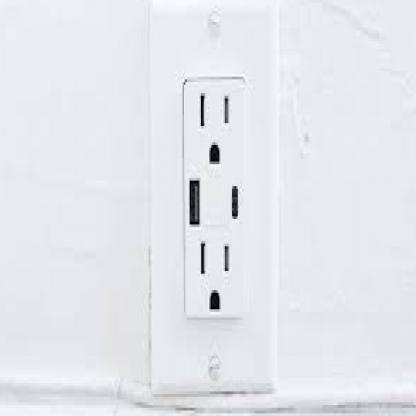OUTLET: (147, 0, 280, 394)
